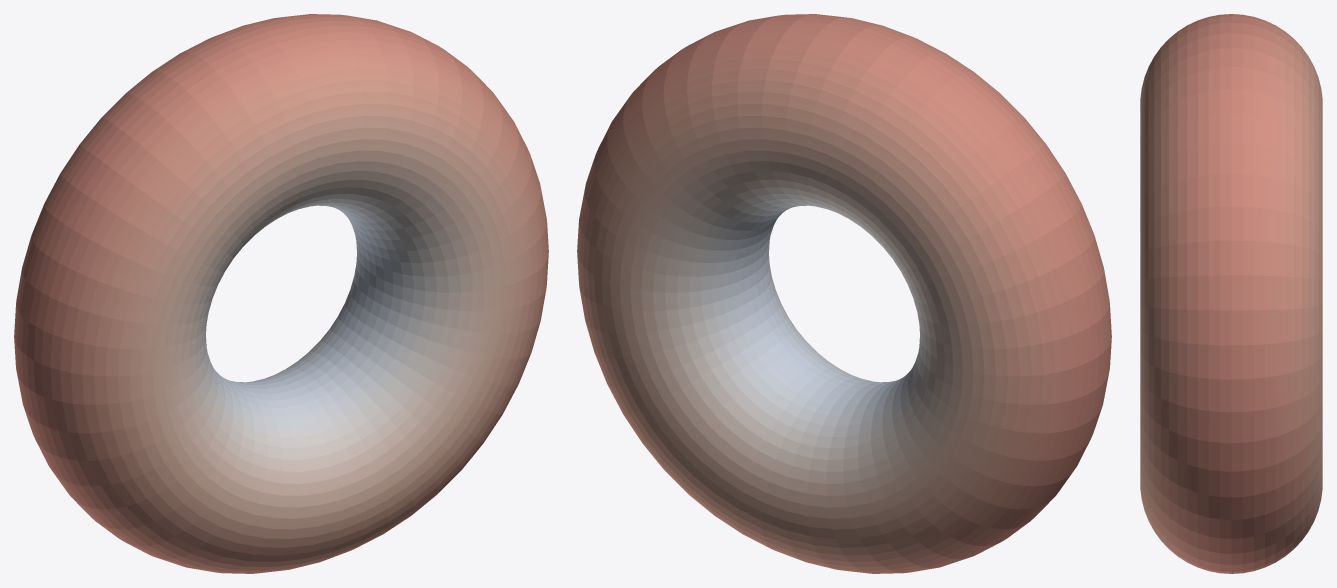
3 renders of one model, left to right at view 1: azimuth 30°, elevation 25°; view 2: azimuth 150°, elevation 25°; view 3: azimuth 270°, elevation 25°, orthographic. The views are drawn at different scales.
Visible parts, largest first — view 1: world; view 2: world; view 3: world.
Part boxes in pixels (left/top/right/bottom): world: left=14, top=14, right=548, bottom=573; world: left=577, top=14, right=1111, bottom=573; world: left=1140, top=14, right=1322, bottom=573.
Bounding box in the file's own units: 25.73 × 25.68 × 8.38.
